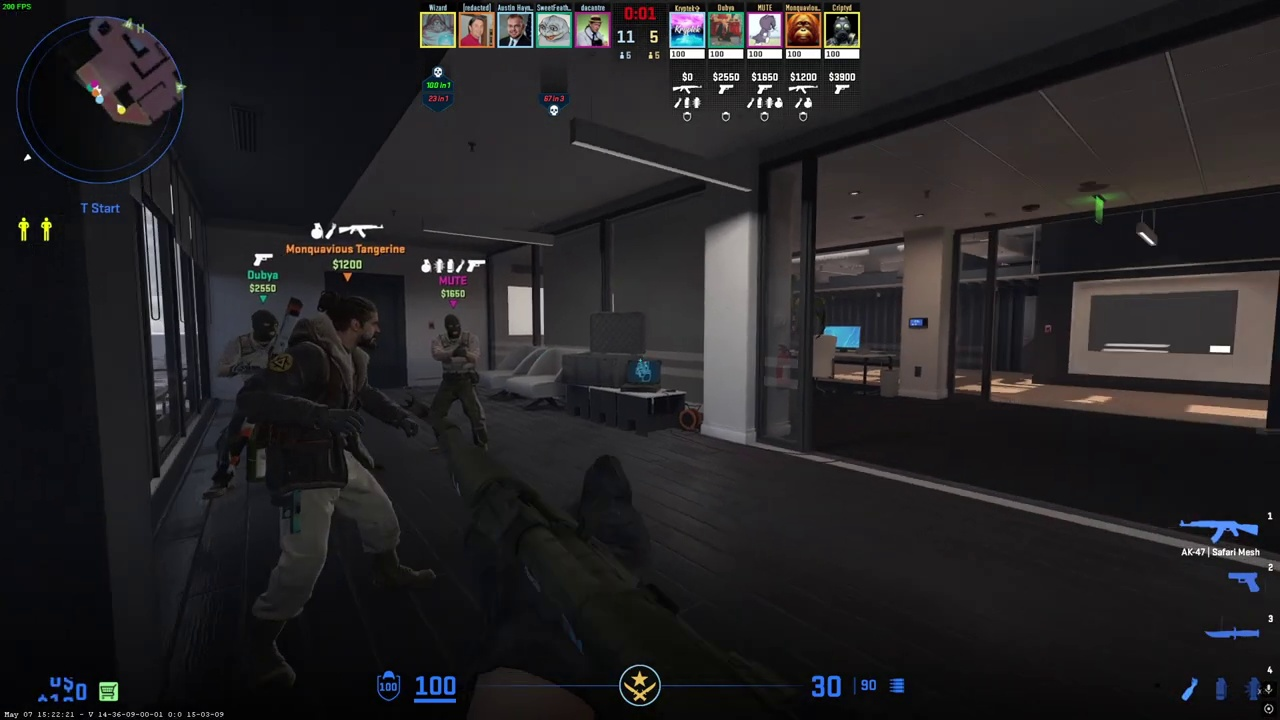Terrorist: (246, 292, 410, 693), (217, 310, 285, 495), (428, 314, 485, 452)
